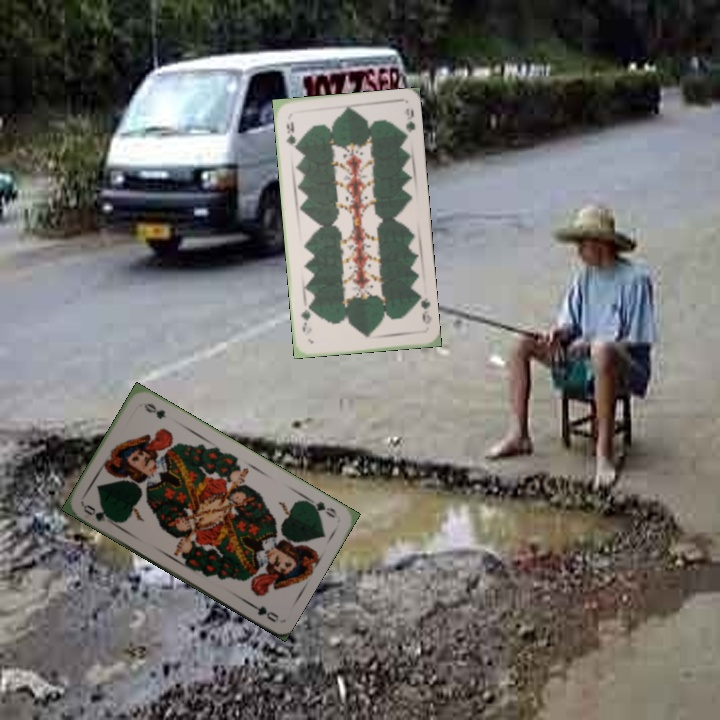G9: (413, 291, 434, 327), (282, 117, 299, 152)
GO: (303, 494, 340, 521), (80, 500, 118, 524)
